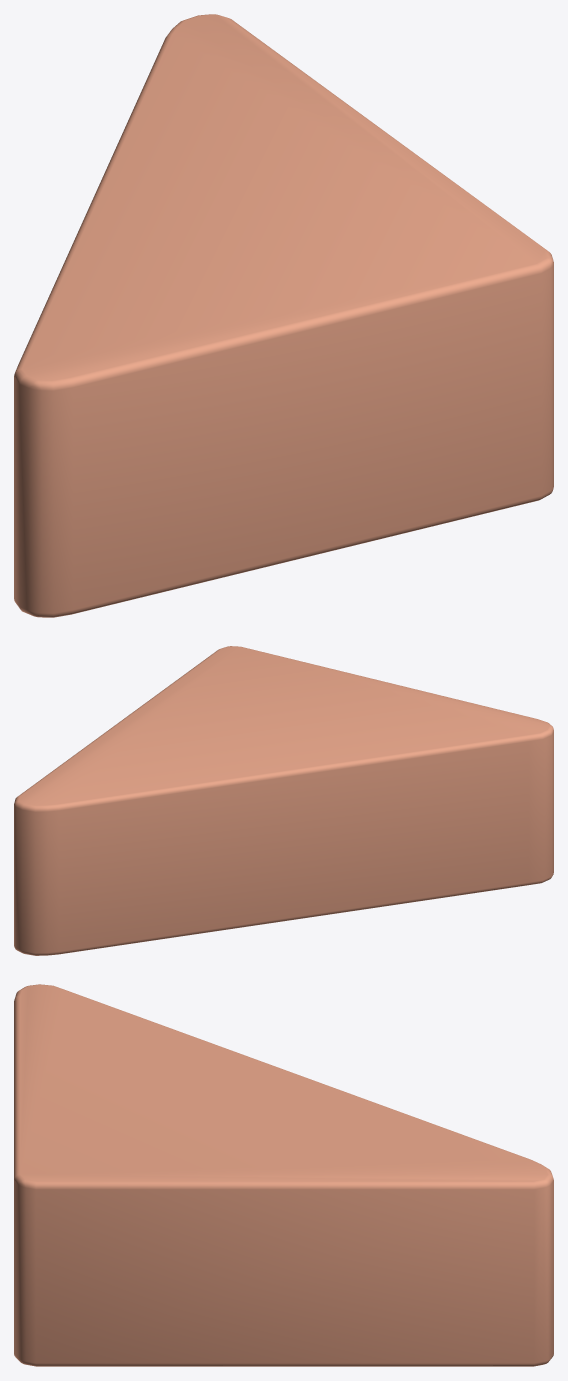
File: island_lv4_1.fbx
3 renders of one model, top to bottom at view 1: azimuth 30°, elevation 25°; view 2: azimuth 150°, elevation 25°; view 3: azimuth 270°, elevation 25°, orthographic. The views are drawn at different scales.
Visible parts, largest first — view 1: island_lv4_1; view 2: island_lv4_1; view 3: island_lv4_1.
Part boxes in pixels (x1,y1,x2,y2): island_lv4_1: [14, 14, 553, 617]; island_lv4_1: [14, 646, 553, 955]; island_lv4_1: [14, 984, 553, 1366].
Bounding box in the file's own units: 1172 × 500 × 1326.
